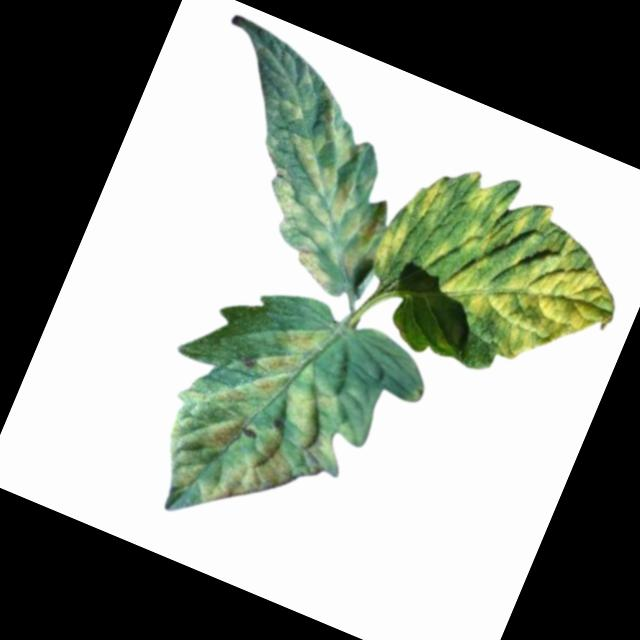Leaf_Mold: (354, 140, 640, 397), (135, 284, 393, 563), (222, 67, 430, 304)
